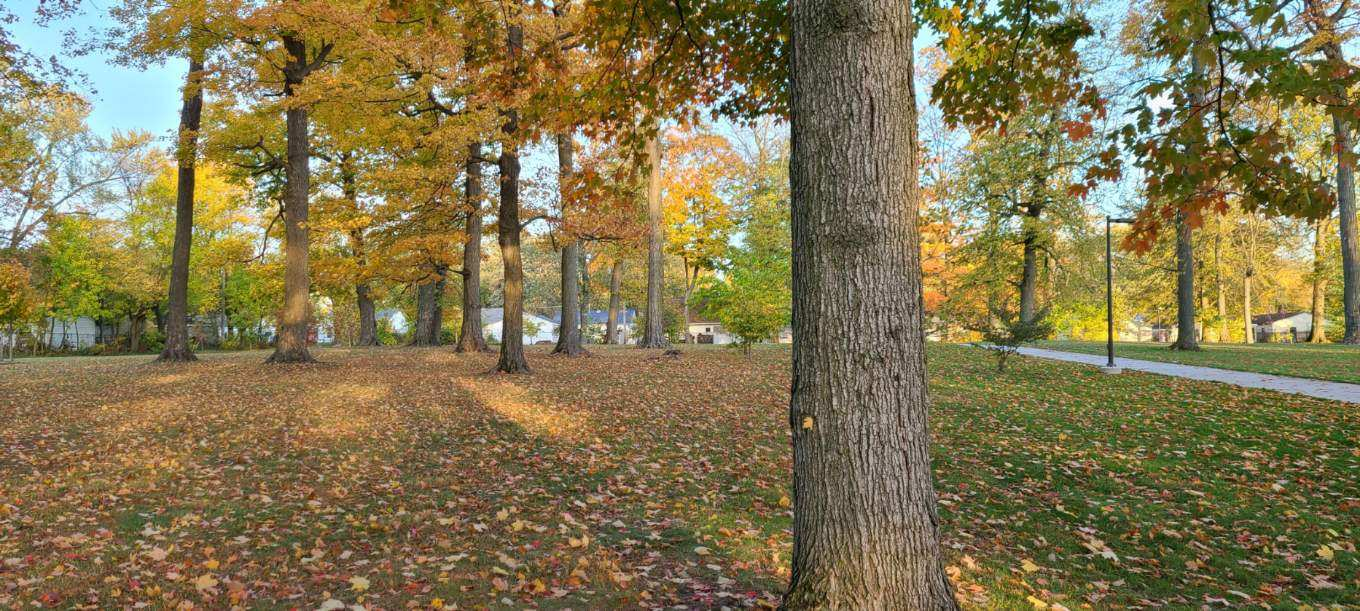tree: (772, 1, 961, 610), (1303, 1, 1360, 349), (272, 1, 319, 365), (159, 3, 205, 361), (1176, 1, 1215, 347), (404, 18, 443, 351), (339, 65, 384, 349), (551, 1, 585, 354), (457, 1, 489, 354), (499, 1, 528, 375), (641, 1, 671, 345), (1305, 153, 1333, 347), (1020, 146, 1049, 330), (605, 234, 631, 345)
